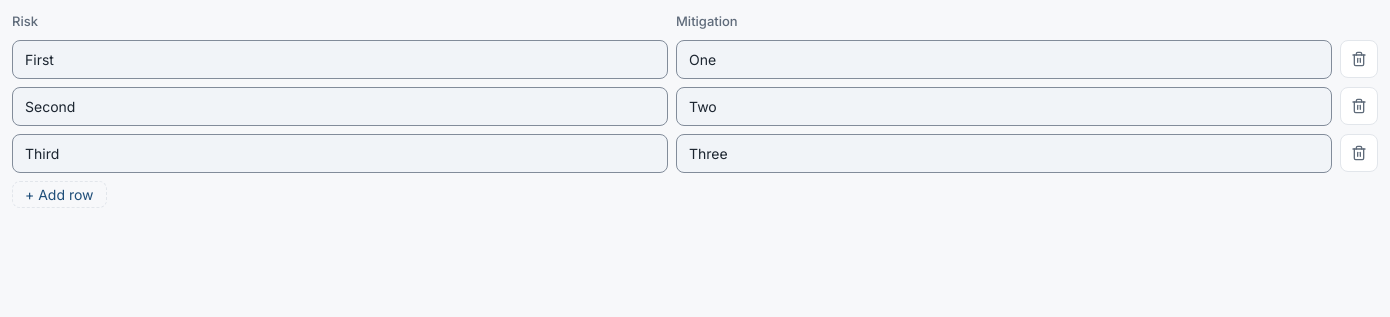
Test: shared form parts › pair list (UX-15) › never leaves a confirmation open on a row that took another's place
This screenshot has width=1390, height=317.
Ask to remove «Second», then remove «First» before answering.
What coordinates should you click on to do the following:
click the button named "Remove: Risks · Row 2"
I would click on:
 (1359, 106)
Its box is [1340,86,1378,124].
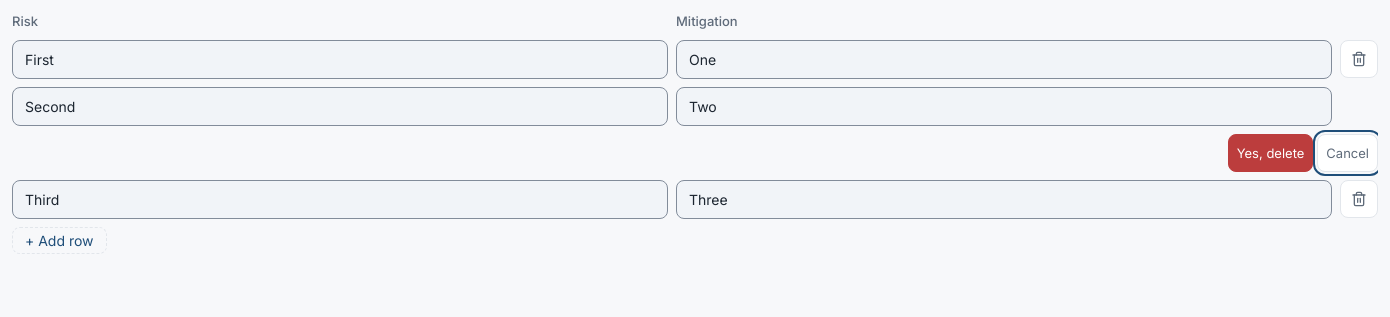
What coordinates should you click on to do the following:
click the button named "Remove: Risks · Row 1"
I would click on:
 (1359, 58)
Its box is [1340,40,1378,78].
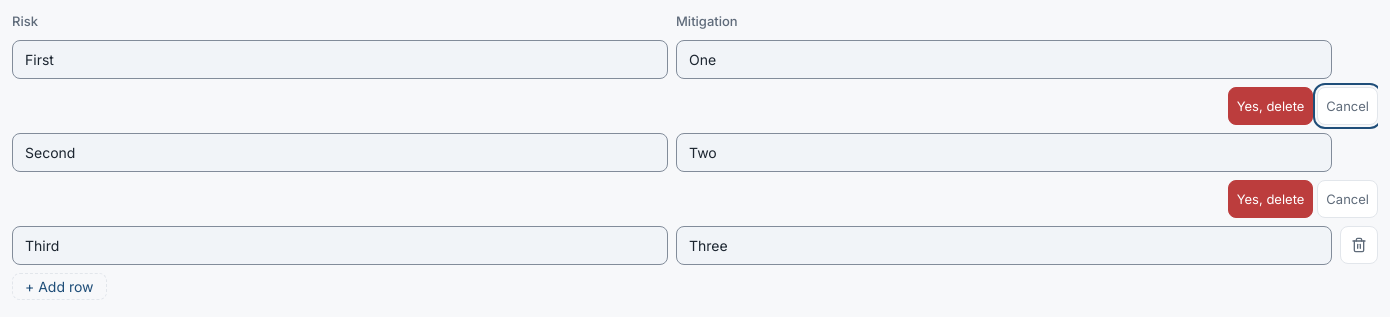
What coordinates should you click on to do the following:
click the 1st button "Yes, delete"
I would click on:
 (1270, 106)
Its box is [1228,86,1313,124].
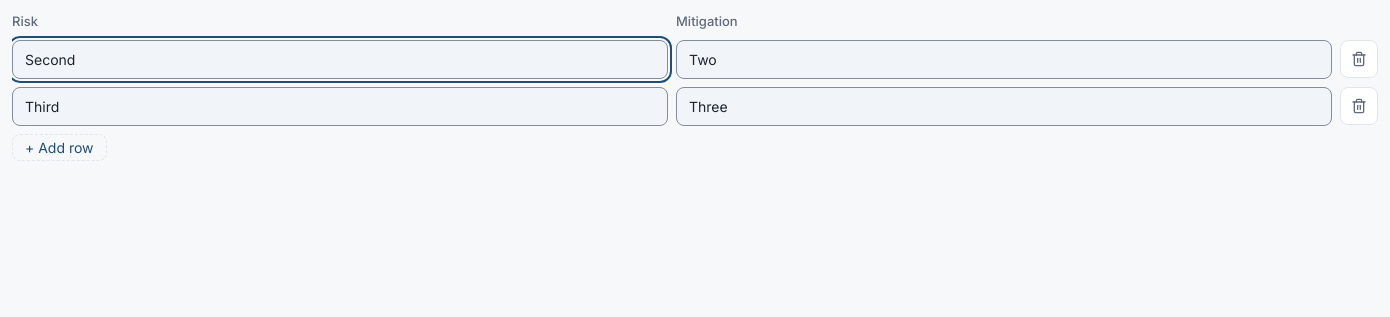
Check: the button "Yes, delete" is gone
